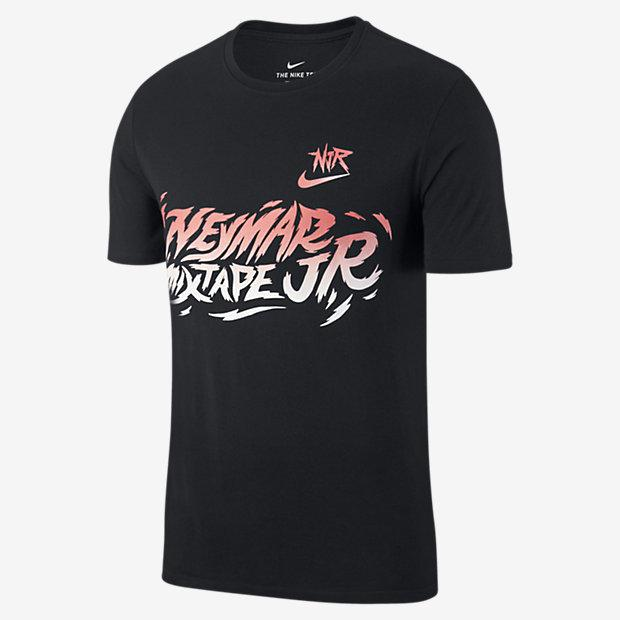teeshirt: (87, 10, 607, 610)
